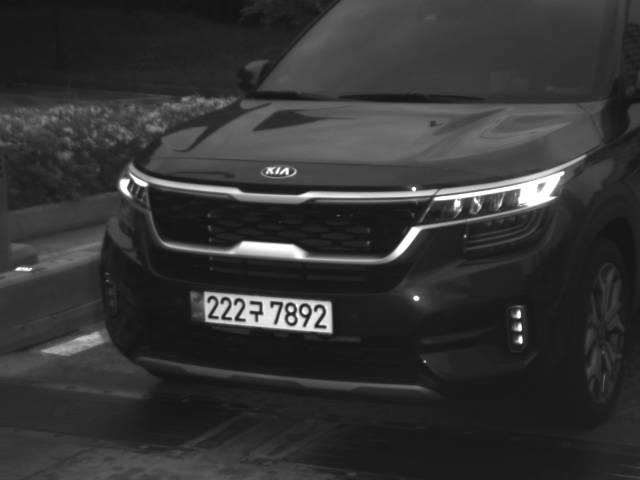car: (98, 1, 639, 433)
plate: (188, 290, 335, 335)
